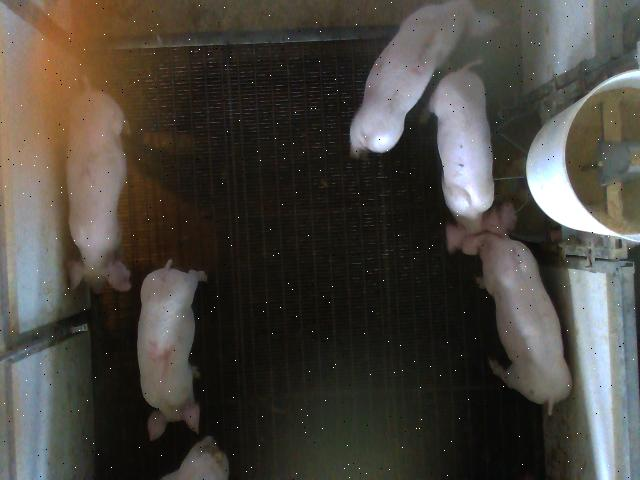pig-3: (350, 1, 498, 158)
pig-4: (140, 261, 206, 441)
